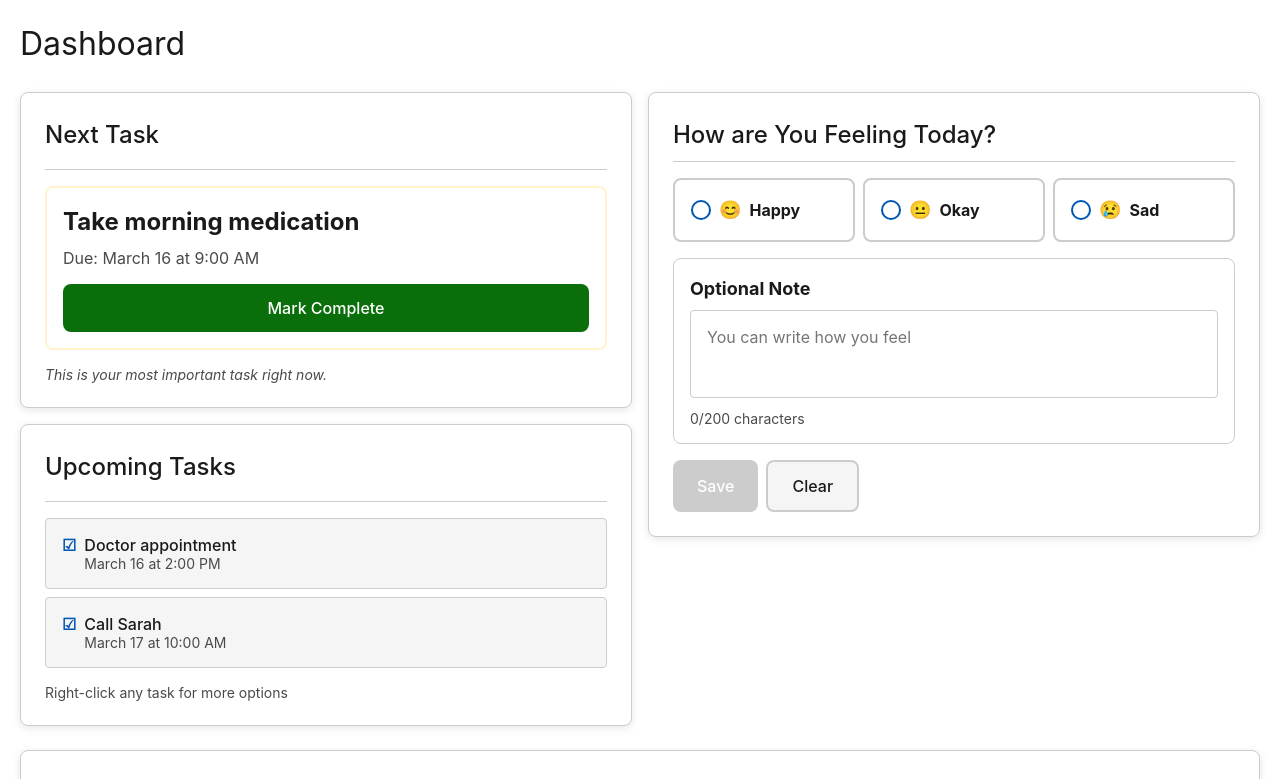
Test: DashboardView › updates mood note text
The width and height of the screenshot is (1280, 779).
Type "Feeling great" into the text box labelled "Optional Note" at (954, 354), box x1=690 y1=310 x2=1218 y2=398
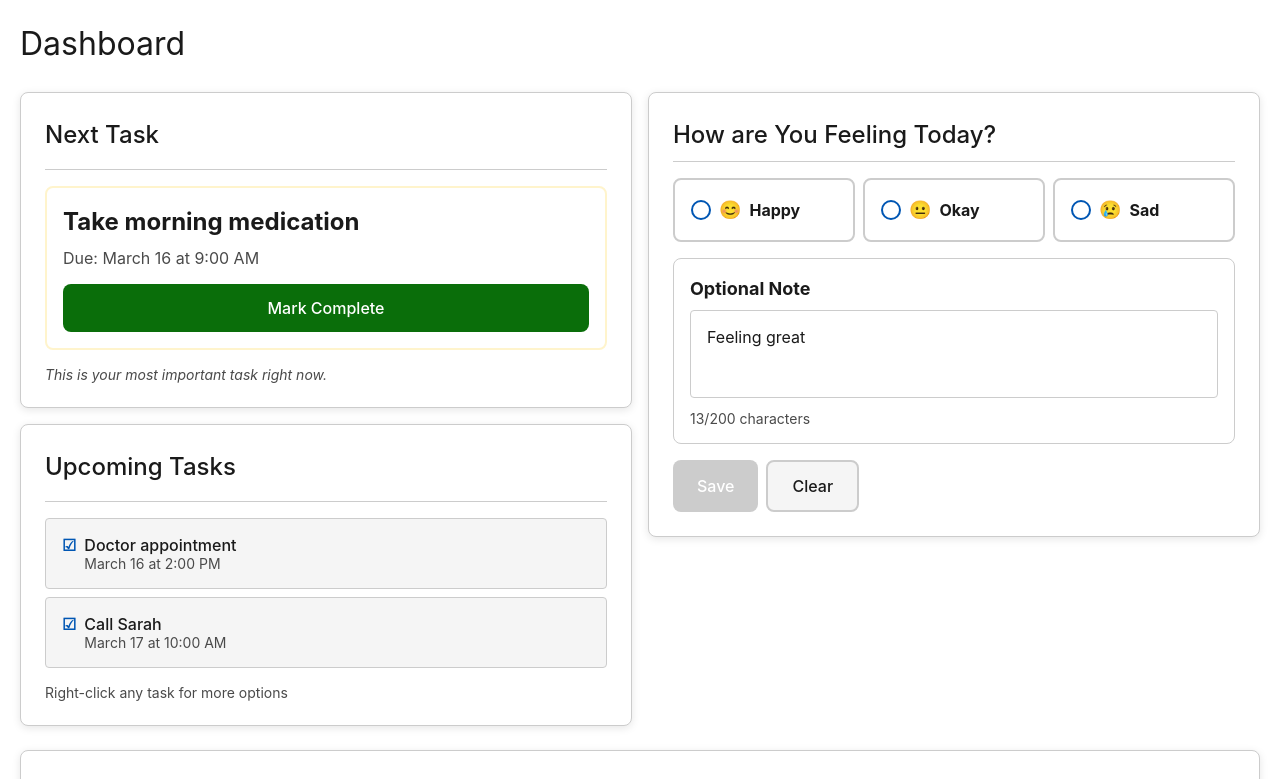
Expected: the text "13/200 characters" is shown, x1=690 y1=410 x2=810 y2=427
